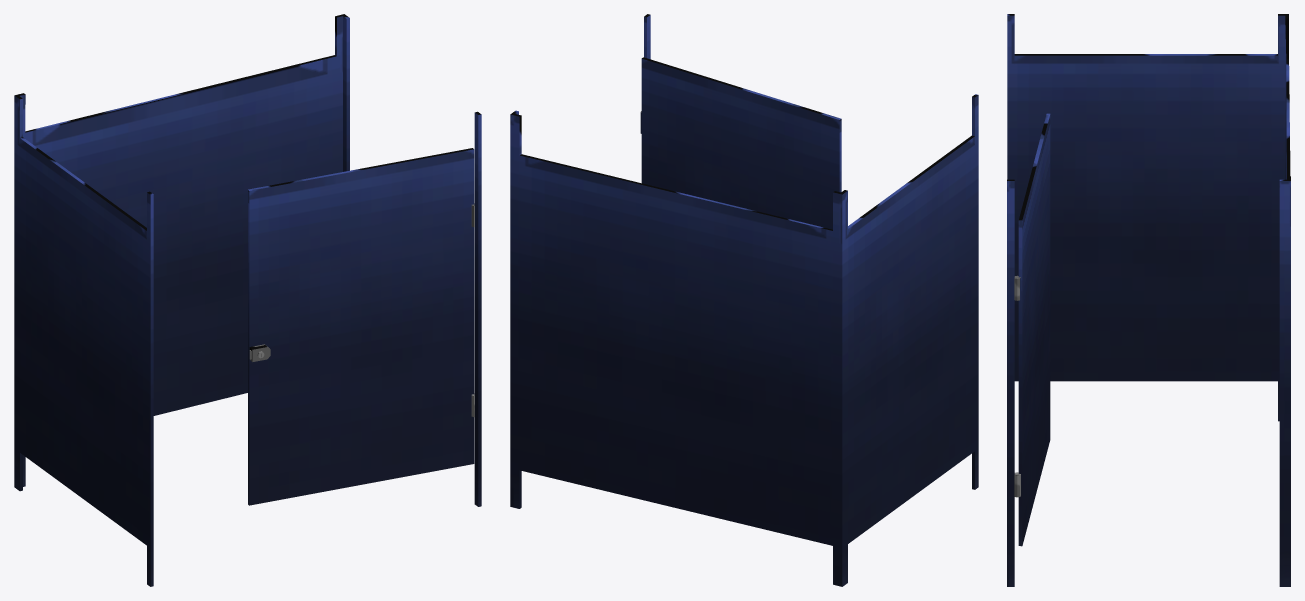
Rendered from stall_open_R.obj.
3 views of the same model, side by side, from view 1: azimuth 30°, elevation 25°; view 2: azimuth 150°, elevation 25°; view 3: azimuth 270°, elevation 25° (orthographic). The views are drawn at different scales.
Parts seen in each view (by area): view 1: stall_open_R; view 2: stall_open_R; view 3: stall_open_R.
Part boxes in pixels (left/top/right/bottom): stall_open_R: left=14, top=14, right=481, bottom=586; stall_open_R: left=510, top=14, right=978, bottom=586; stall_open_R: left=1007, top=14, right=1290, bottom=586.
Bounding box in the file's own units: 2.13 × 2.4 × 1.52.
